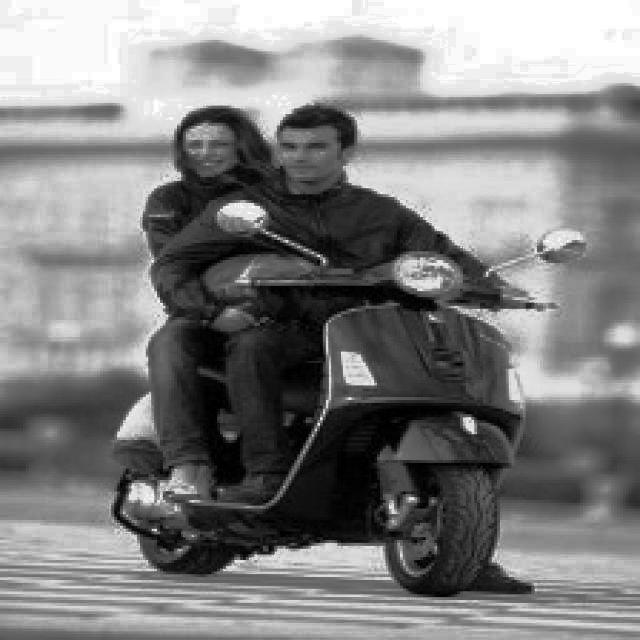Bike: (300, 269, 576, 611)
